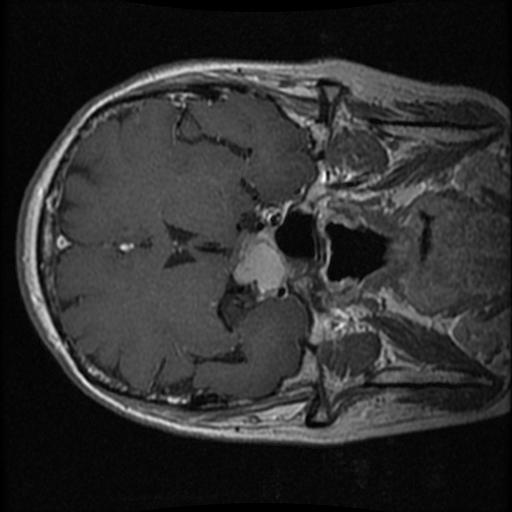pituitary tumour: (235, 230, 284, 293)
